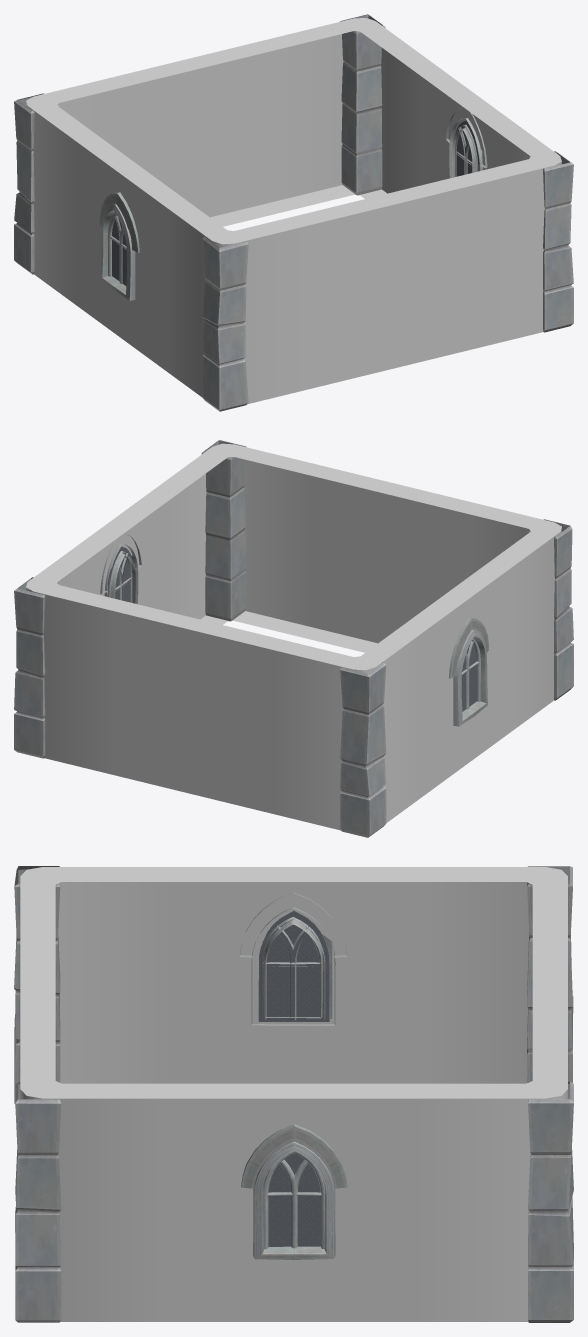
File: SM_TowerE_Mid2Window_Window.fbx
3 renders of one model, top to bottom at view 1: azimuth 30°, elevation 25°; view 2: azimuth 150°, elevation 25°; view 3: azimuth 270°, elevation 25°, orthographic. The views are drawn at different scales.
Parts seen in each view (by area): view 1: SM_TowerE_Mid2Window_Window_LOD0; view 2: SM_TowerE_Mid2Window_Window_LOD0; view 3: SM_TowerE_Mid2Window_Window_LOD0.
Boxes of the visible parts, <box> form: SM_TowerE_Mid2Window_Window_LOD0: <box>14,14,573,411</box>; SM_TowerE_Mid2Window_Window_LOD0: <box>14,440,573,837</box>; SM_TowerE_Mid2Window_Window_LOD0: <box>14,866,573,1322</box>.
Size of what is drawn, in the model's own units: 10.37 by 4.5 by 10.22.
